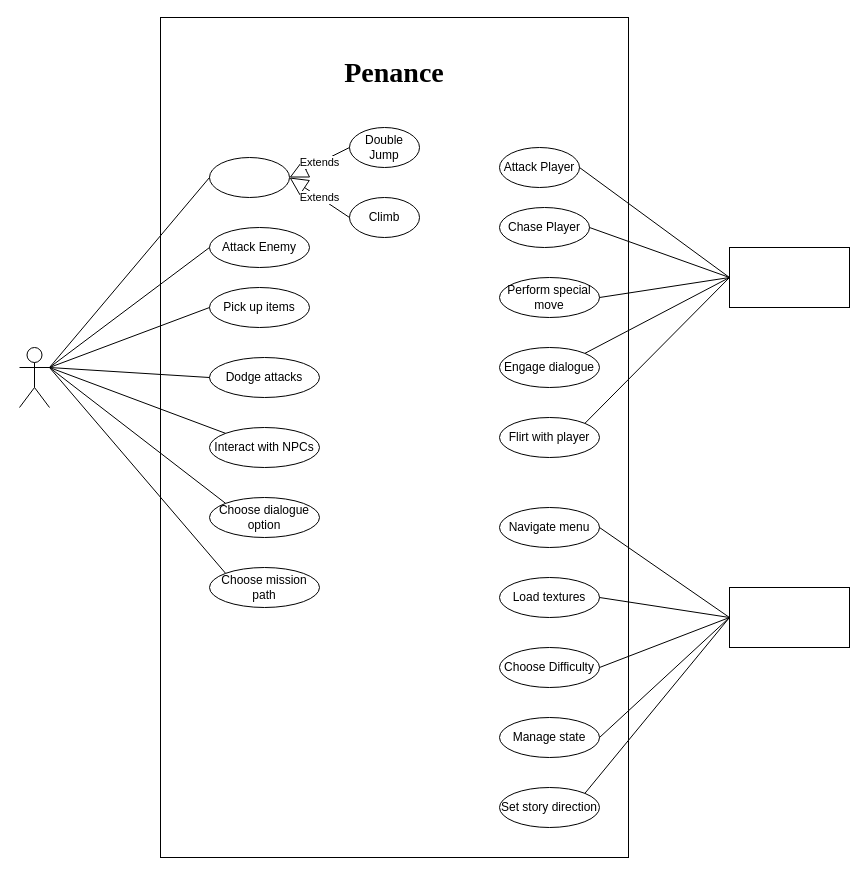
Some shapes in this 867 by 875 pixel diagram are drawn without their labels. Here are the shapes that lost their labels. From the top down, the centre of each, then its label:
the point at 249,177: Move Player
the point at 789,277: <<actor>> Enemy AI
the point at 34,377: Player
the point at 789,617: <<actor>> Game
